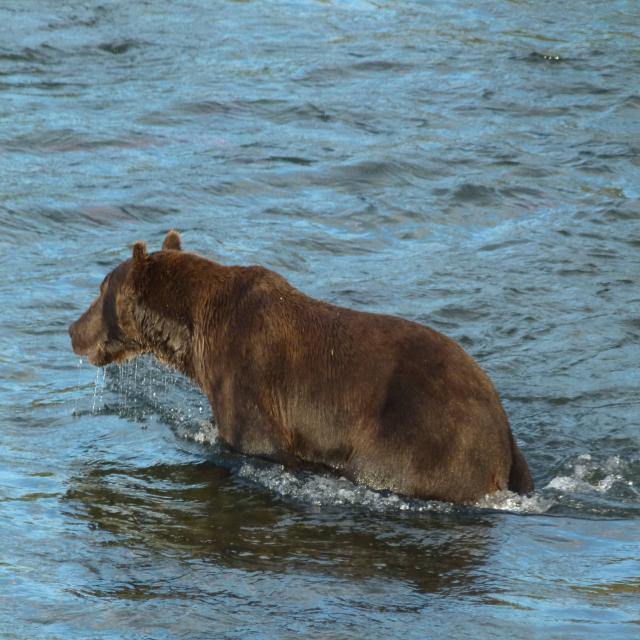bear face: (68, 229, 531, 496)
